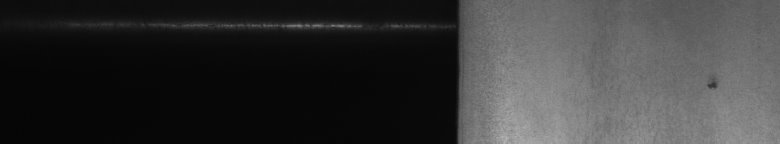fi: (704, 76, 720, 96)
